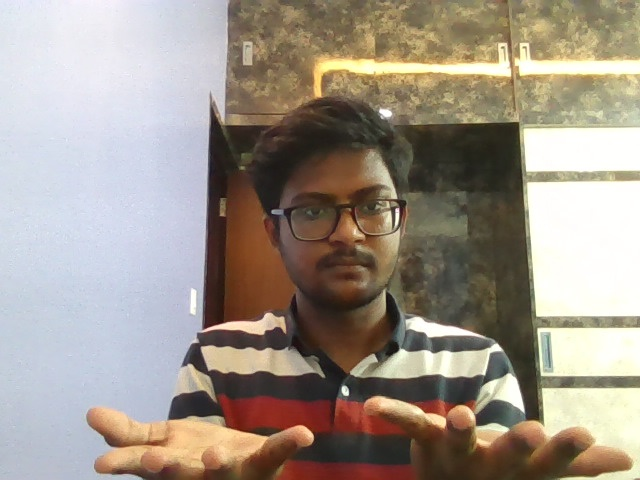what: (56, 376, 635, 480)
